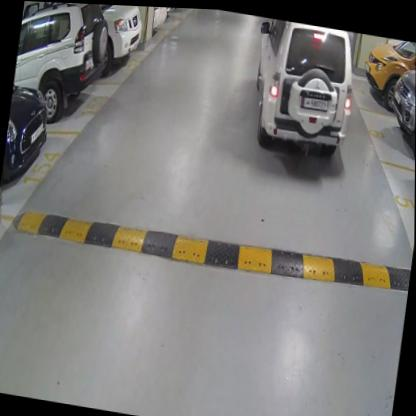np: (302, 93, 326, 108)
